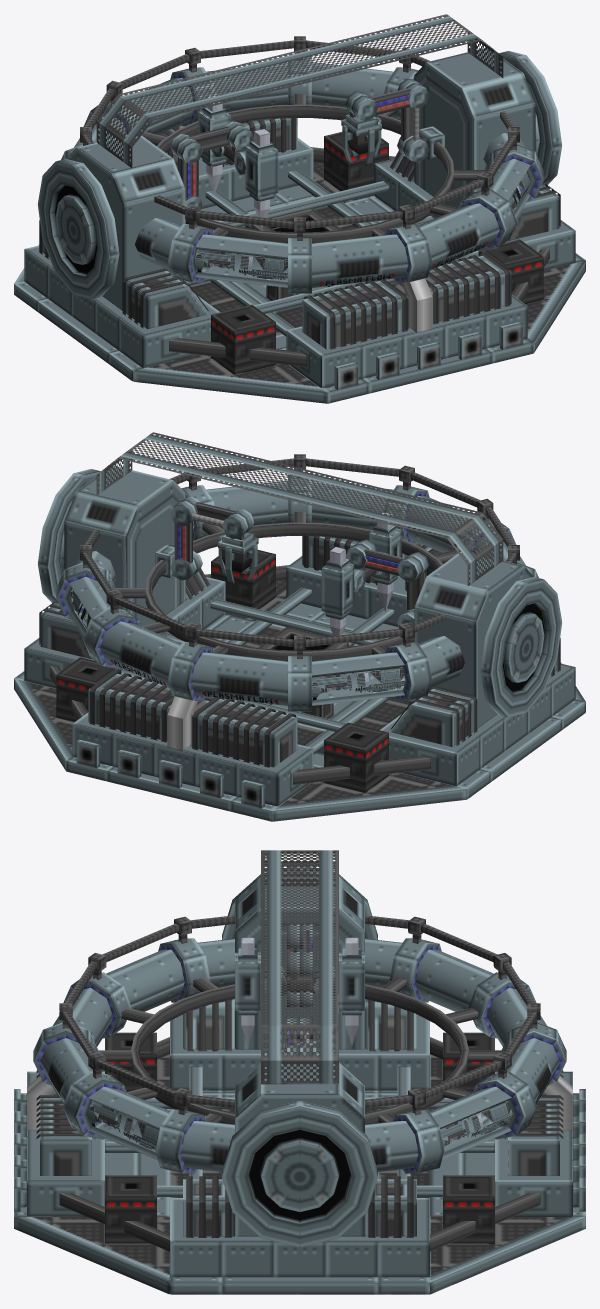
File: plasma_forge.obj
The picture shows the model from 3 angles, top to bottom: view 1: azimuth 30°, elevation 25°; view 2: azimuth 150°, elevation 25°; view 3: azimuth 270°, elevation 25°; orthographic projection. The views are drawn at different scales.
Visible parts, largest first — view 1: Body, Plasma, StrikerRight, Jet, ArmUpperJet, ArmLowerStriker, StrikerMount, SliderJet, StrikerLeft, ArmUpperStriker, ArmLowerJet, PistonRight; view 2: Body, Jet, Plasma, StrikerLeft, ArmLowerJet, ArmUpperStriker, StrikerRight, ArmUpperJet, ArmLowerStriker, SliderJet, StrikerMount, PistonLeft; view 3: Body, Plasma, StrikerRight, StrikerLeft, StrikerMount.
Boxes of the visible parts, x1,y1,x2,y2 form: Body: [14, 14, 585, 403]; Plasma: [194, 170, 530, 279]; StrikerRight: [245, 140, 278, 201]; Jet: [341, 91, 381, 165]; ArmUpperJet: [351, 83, 429, 121]; ArmLowerStriker: [176, 138, 202, 209]; StrikerMount: [211, 125, 253, 174]; SliderJet: [403, 126, 444, 162]; StrikerLeft: [198, 106, 230, 166]; ArmUpperStriker: [170, 121, 244, 157]; ArmLowerJet: [397, 78, 419, 156]; PistonRight: [254, 129, 269, 228]; Body: [14, 432, 585, 821]; Jet: [218, 513, 258, 583]; Plasma: [68, 589, 405, 700]; StrikerLeft: [321, 558, 354, 619]; ArmLowerJet: [170, 501, 196, 580]; ArmUpperStriker: [346, 543, 423, 581]; StrikerRight: [369, 525, 401, 584]; ArmUpperJet: [180, 496, 254, 532]; ArmLowerStriker: [406, 552, 429, 611]; SliderJet: [155, 544, 202, 577]; StrikerMount: [354, 539, 387, 592]; PistonLeft: [330, 547, 345, 646]; Body: [14, 850, 585, 1294]; Plasma: [87, 1101, 512, 1150]; StrikerRight: [235, 948, 286, 1015]; StrikerLeft: [313, 948, 364, 1015]; StrikerMount: [264, 952, 335, 991].
Bounding box in the file's own units: 11 × 5 × 11.
